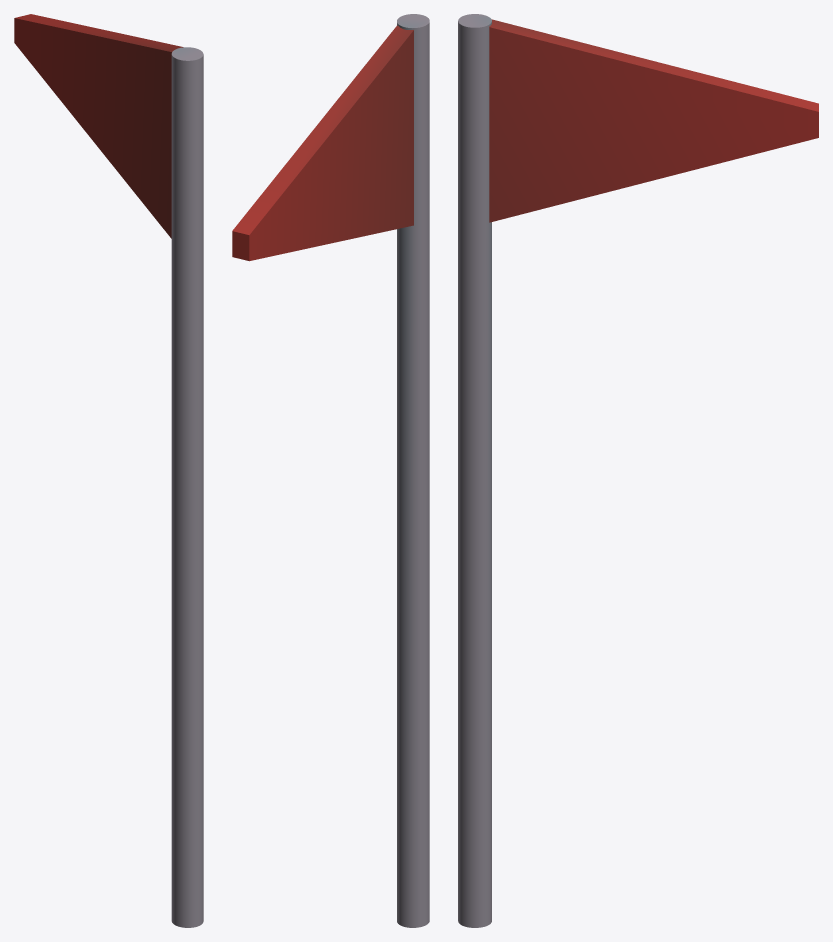
The picture shows the model from 3 angles, left to right: view 1: azimuth 30°, elevation 25°; view 2: azimuth 150°, elevation 25°; view 3: azimuth 270°, elevation 25°; orthographic projection. The views are drawn at different scales.
Visible parts, largest first — view 1: shaft, sheet; view 2: shaft, sheet; view 3: sheet, shaft.
Part boxes in pixels (<box>): shaft: <box>171,47,203,927</box>; sheet: <box>14,14,183,238</box>; shaft: <box>397,14,429,927</box>; sheet: <box>232,25,413,261</box>; sheet: <box>489,19,818,222</box>; shaft: <box>458,14,491,927</box>.
Size of the model in its own units: 0.0591 by 1.8 by 0.6537.
